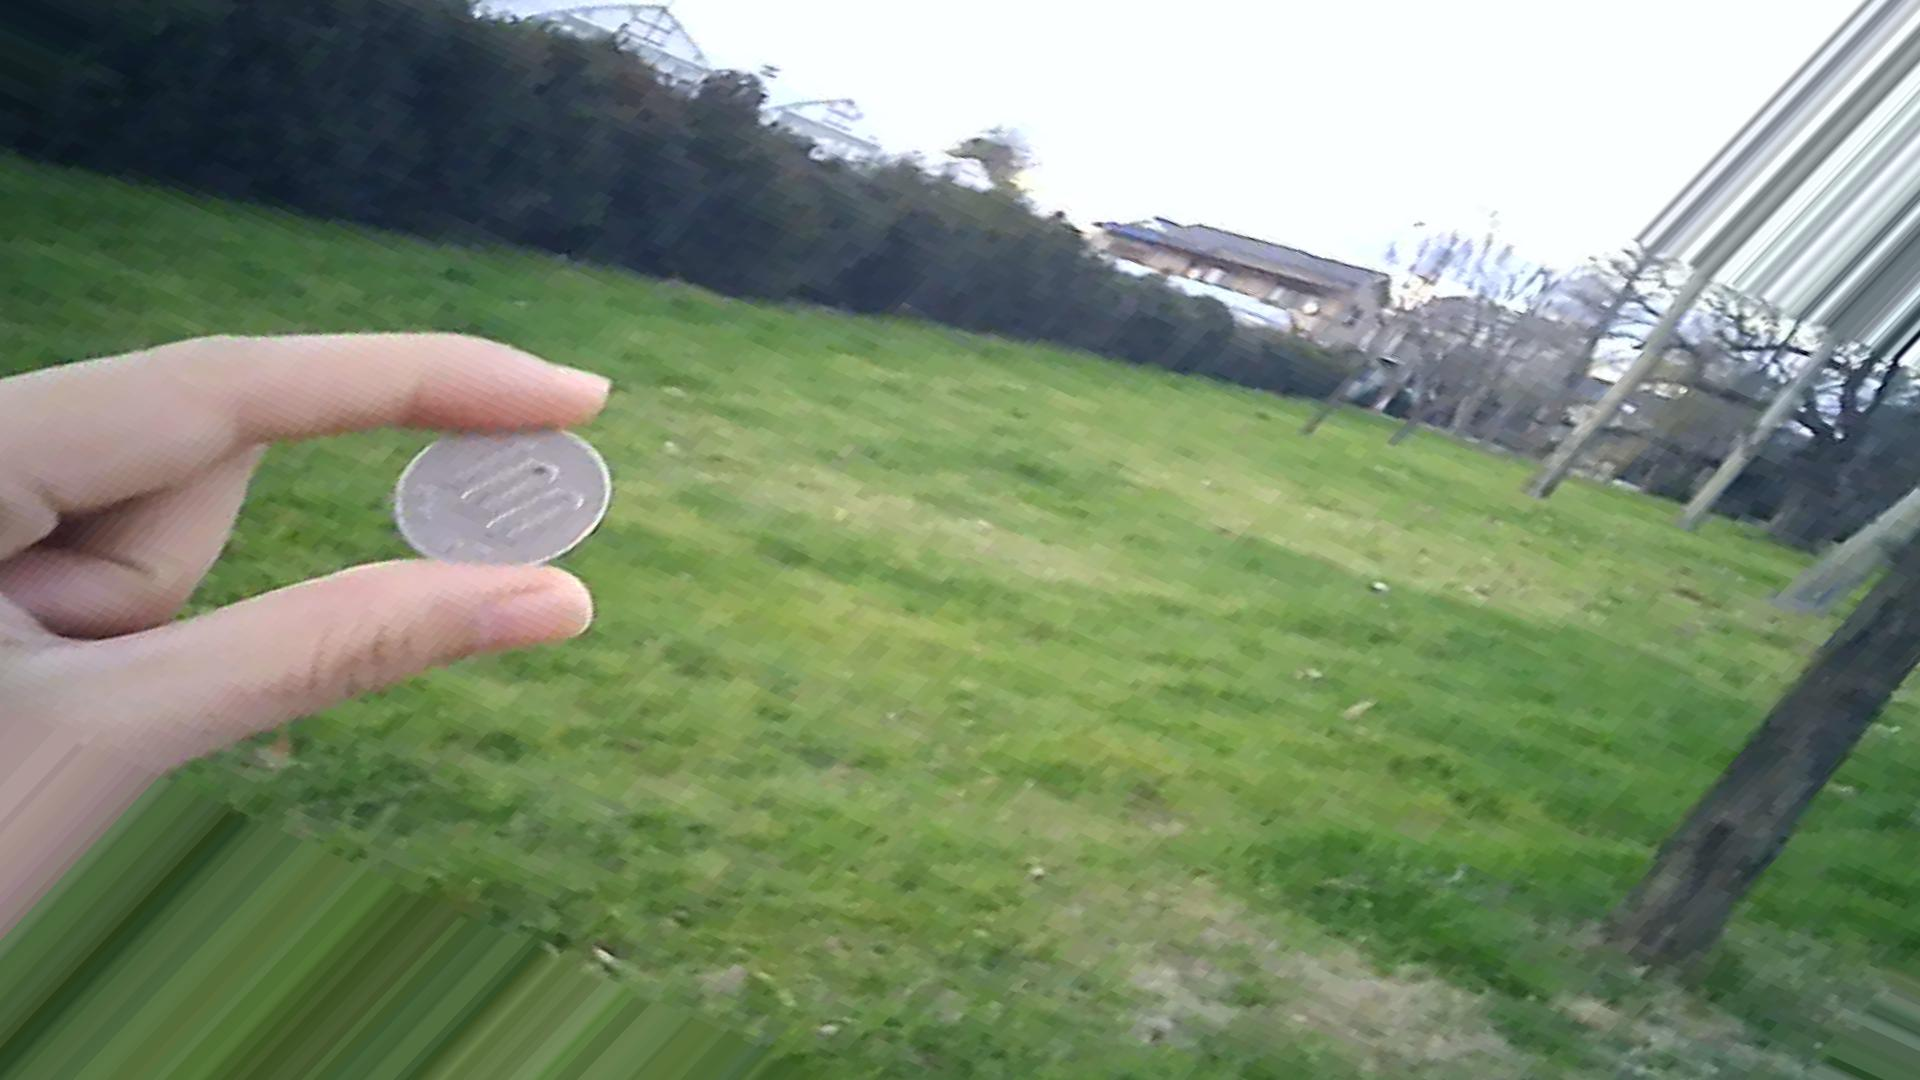100 Yen: (382, 411, 625, 579)
